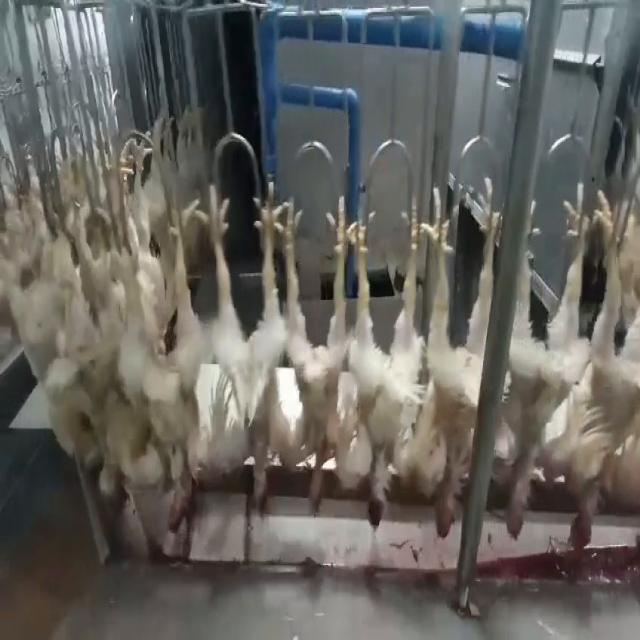chicken: (406, 174, 507, 540), (122, 174, 220, 545), (494, 195, 589, 543), (355, 183, 434, 528), (567, 192, 639, 550), (48, 190, 124, 500), (216, 182, 284, 523), (288, 188, 357, 518)
